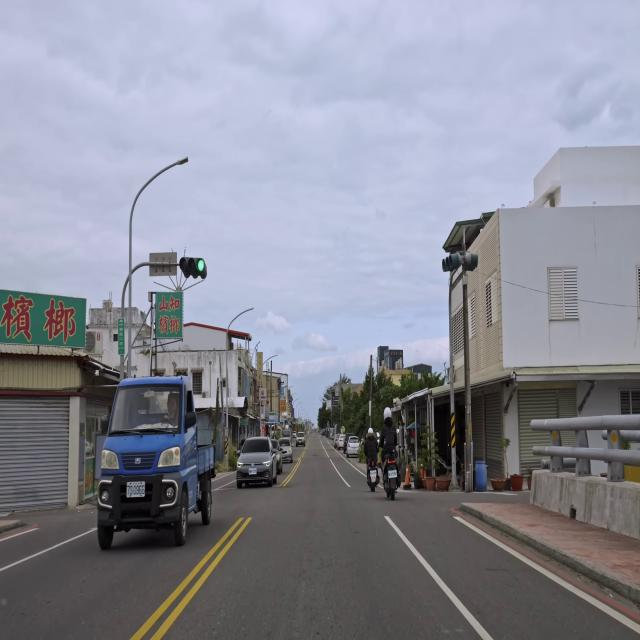green light: (179, 256, 207, 280)
